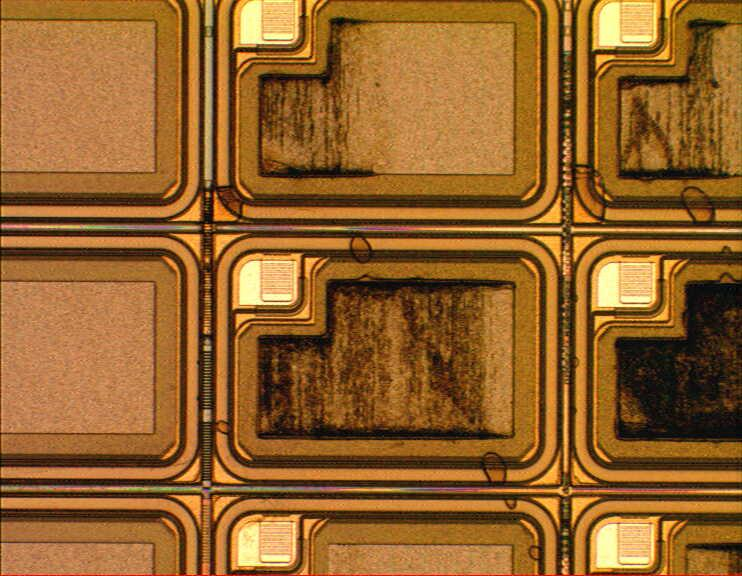SEZ BURNT: (258, 18, 742, 563)
